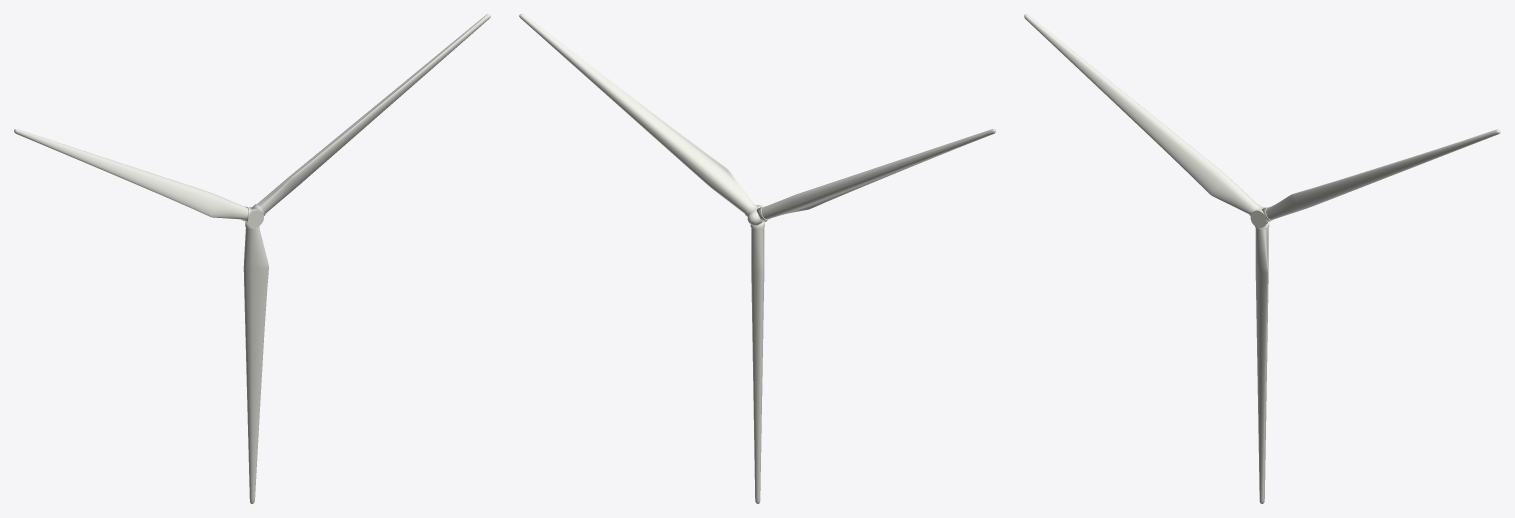
3 views of the same model, side by side, from view 1: azimuth 30°, elevation 25°; view 2: azimuth 150°, elevation 25°; view 3: azimuth 330°, elevation 25° (orthographic).
Parts seen in each view (by area): view 1: Cylinder.003; view 2: Cylinder.003; view 3: Cylinder.003.
Boxes of the visible parts, bbox=[...] form: Cylinder.003: bbox=[14, 14, 490, 503]; Cylinder.003: bbox=[519, 14, 995, 503]; Cylinder.003: bbox=[1024, 14, 1500, 503].
Size of the model in its own units: 76.29 by 66.17 by 3.38.
Materials: 2 (1 with a texture image).
